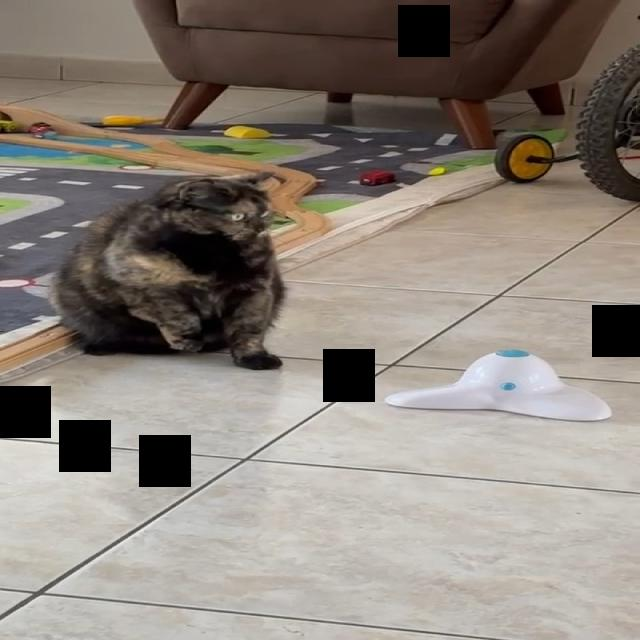authorized: (47, 170, 288, 370)
